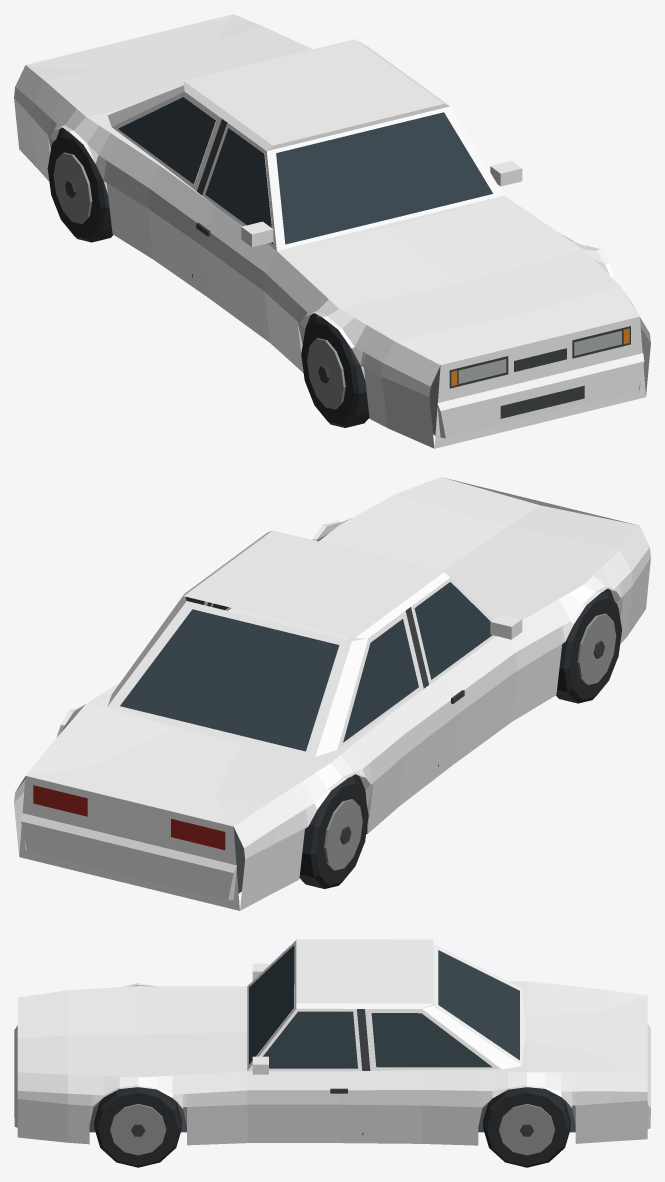
Rendered from hayase_yaiba.glb.
The picture shows the model from 3 angles, top to bottom: view 1: azimuth 30°, elevation 25°; view 2: azimuth 150°, elevation 25°; view 3: azimuth 270°, elevation 25°; orthographic projection. The views are drawn at different scales.
Visible parts, largest first — view 1: hayase_yaiba; view 2: hayase_yaiba; view 3: hayase_yaiba.
Boxes of the visible parts, bbox=[...] form: hayase_yaiba: bbox=[14, 14, 650, 448]; hayase_yaiba: bbox=[14, 477, 650, 910]; hayase_yaiba: bbox=[14, 939, 650, 1167].
Size of the model in its own units: 1.82 by 1.2 by 4.7.
Materials: 8 (1 with a texture image).
